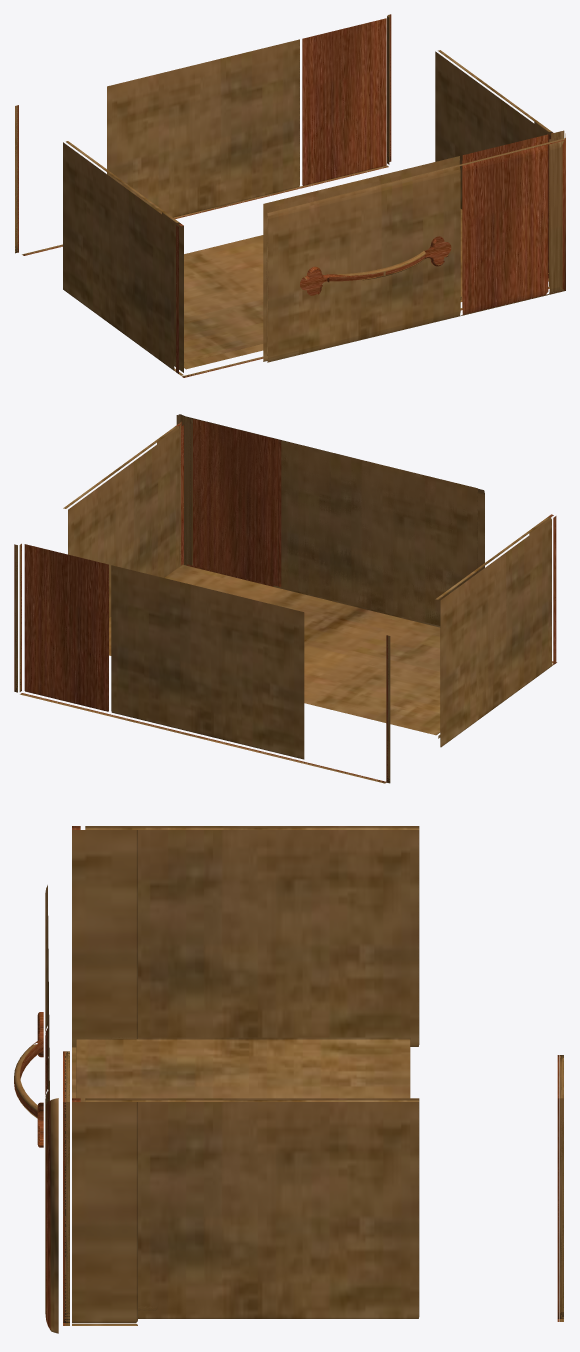
The model's file is link_2_combined_mesh.obj.
The picture shows the model from 3 angles, top to bottom: view 1: azimuth 30°, elevation 25°; view 2: azimuth 150°, elevation 25°; view 3: azimuth 270°, elevation 25°; orthographic projection. The views are drawn at different scales.
Size of the model in its own units: 0.4352 by 0.1718 by 0.3583.
1 material, 1 textured.
